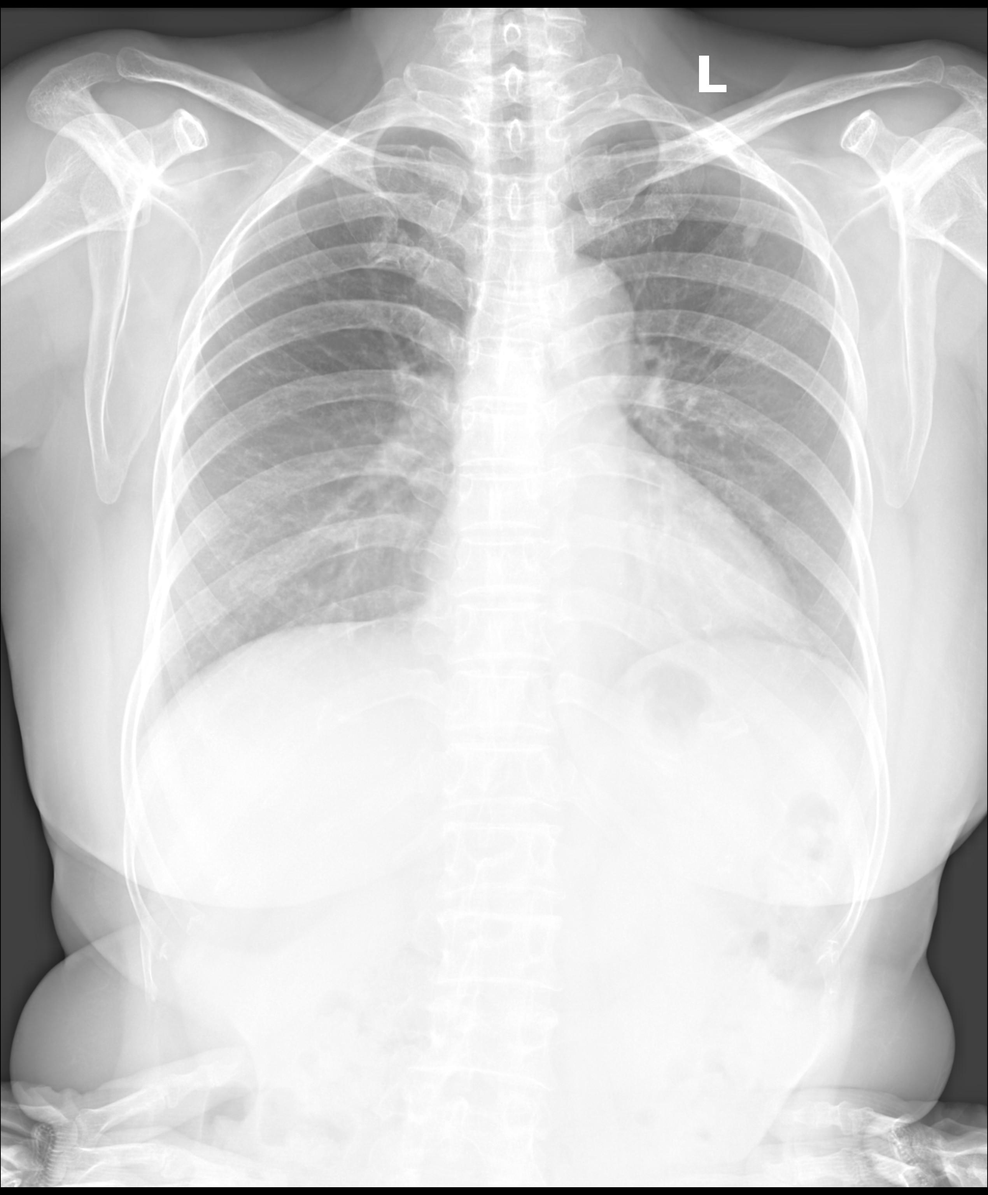Cardiomegaly: (421, 531, 815, 659)
Pulmonary fibrosis: (739, 217, 766, 268)
